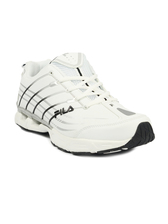shoes: (7, 45, 158, 157)
